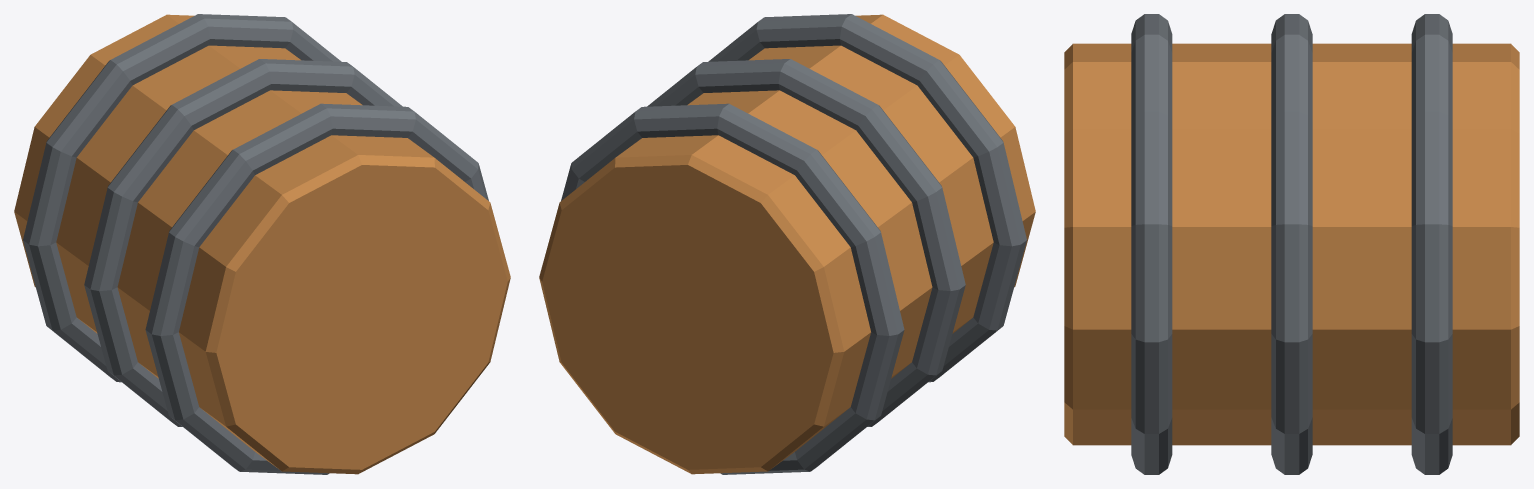
The model's file is toy_barrel.glb.
3 renders of one model, left to right at view 1: azimuth 30°, elevation 25°; view 2: azimuth 150°, elevation 25°; view 3: azimuth 270°, elevation 25°, orthographic. The views are drawn at different scales.
Visible parts, largest first — view 1: toy_barrel; view 2: toy_barrel; view 3: toy_barrel.
Part boxes in pixels (bbox=[...]): toy_barrel: bbox=[14, 14, 510, 474]; toy_barrel: bbox=[539, 14, 1035, 474]; toy_barrel: bbox=[1064, 14, 1519, 474].
Bounding box in the file's own units: 0.2641 × 0.2641 × 0.26.
